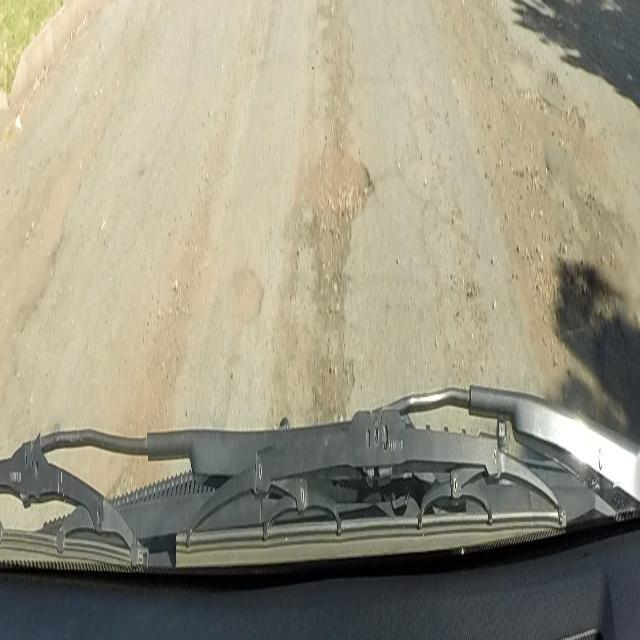pothole: (303, 136, 372, 417), (225, 258, 263, 334)
